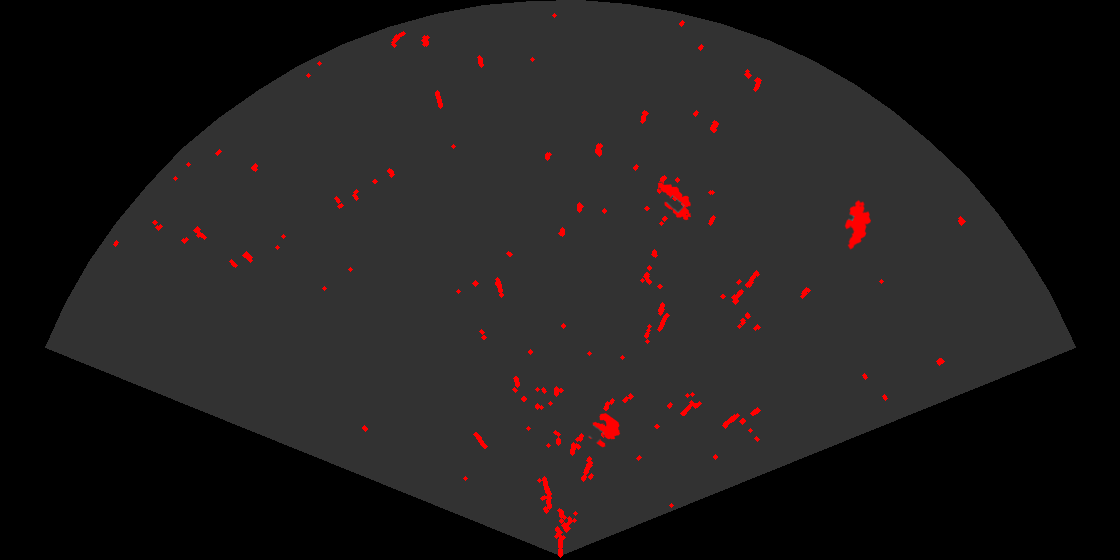AUV: (843, 198, 873, 251), (656, 181, 693, 222)
ball: (587, 411, 622, 449)
